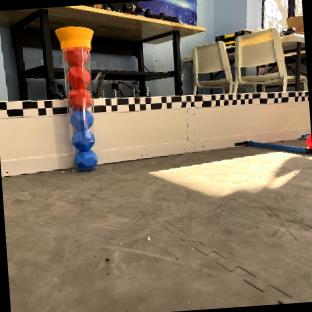V5_BLUE: (69, 110, 97, 169)
V5_RED: (55, 25, 96, 169), (62, 45, 91, 109), (305, 133, 311, 147)
